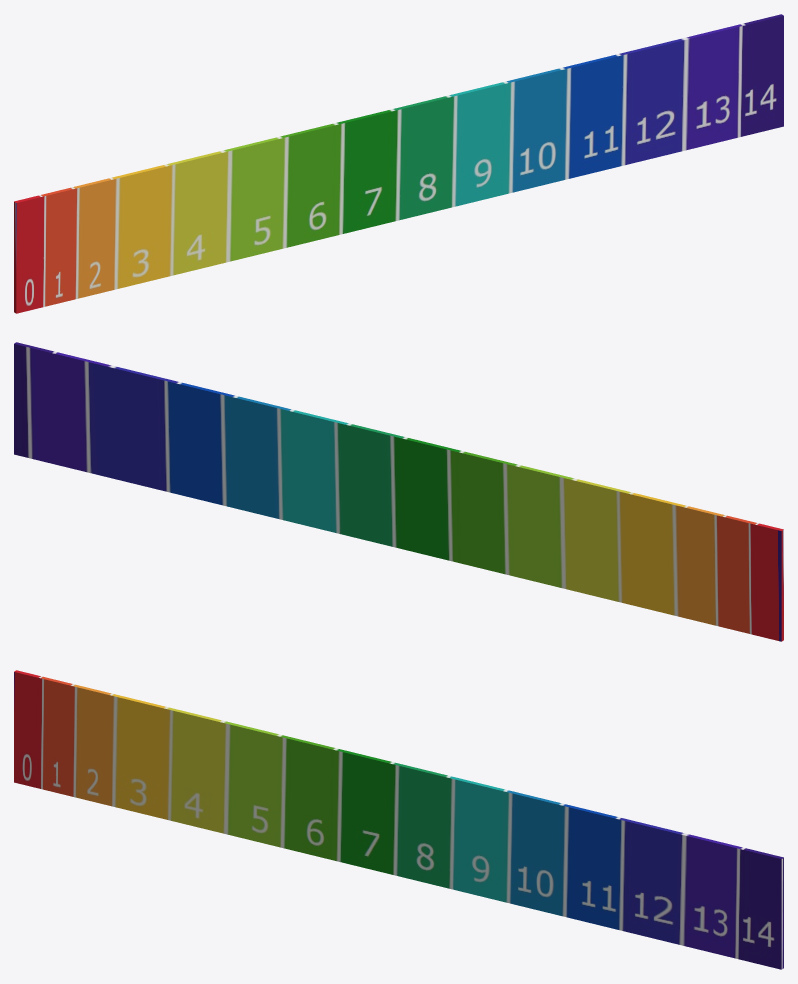
Rendered from scale_ph.fbx.
The picture shows the model from 3 angles, top to bottom: view 1: azimuth 30°, elevation 25°; view 2: azimuth 150°, elevation 25°; view 3: azimuth 330°, elevation 25°; orthographic projection.
Visible parts, largest first — view 1: scale_ph; view 2: scale_ph; view 3: scale_ph.
Part boxes in pixels (<box>): scale_ph: <box>14,14,783,313</box>; scale_ph: <box>14,342,783,641</box>; scale_ph: <box>14,670,783,969</box>.
Size of the model in its own units: 15.88 by 2.19 by 0.0824.
Materials: 1 (1 with a texture image).
